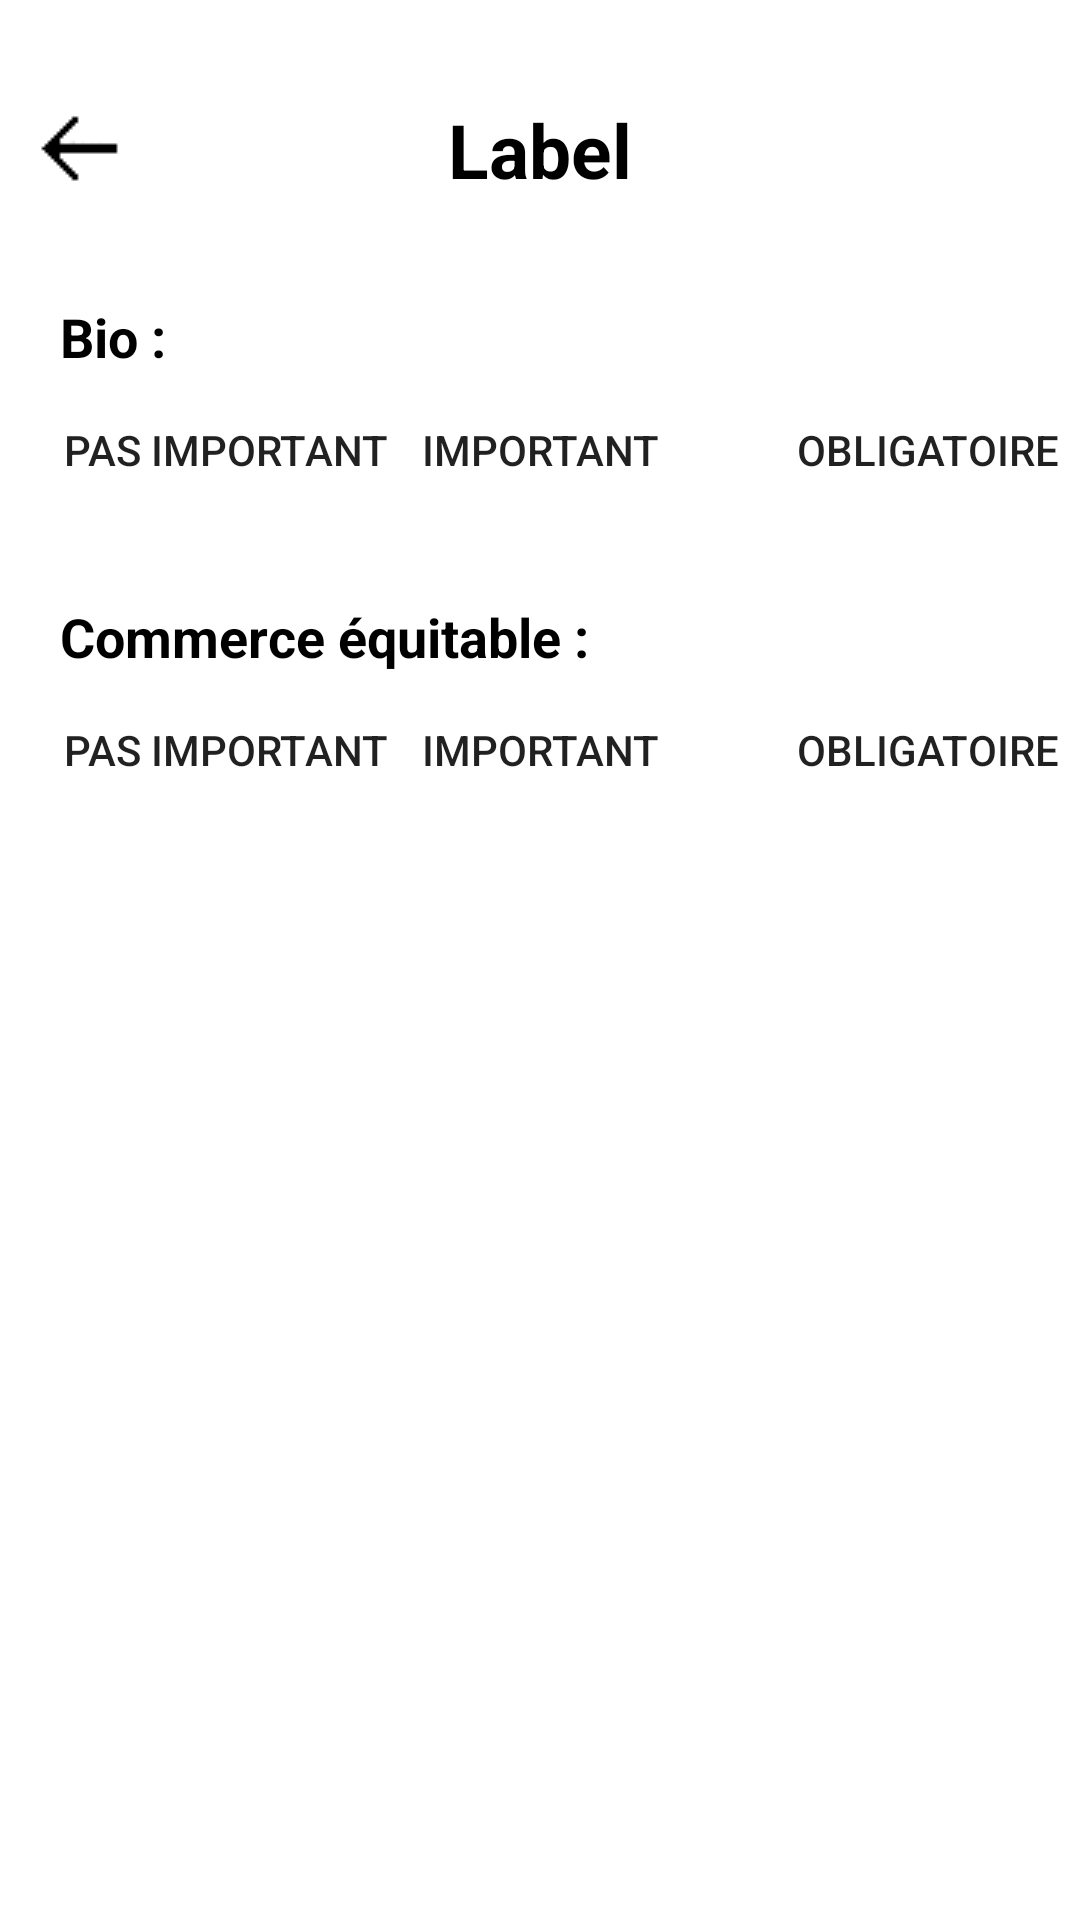

Icon bounding boxes for this 1080*1920 phone screenshot, format (x1, y1, x2, y2):
backfleche: (41, 116, 118, 181)
